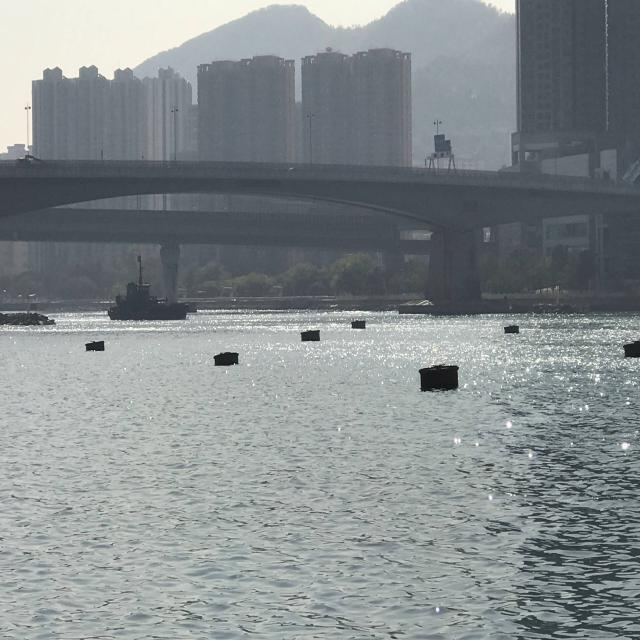ship: (112, 252, 192, 324)
